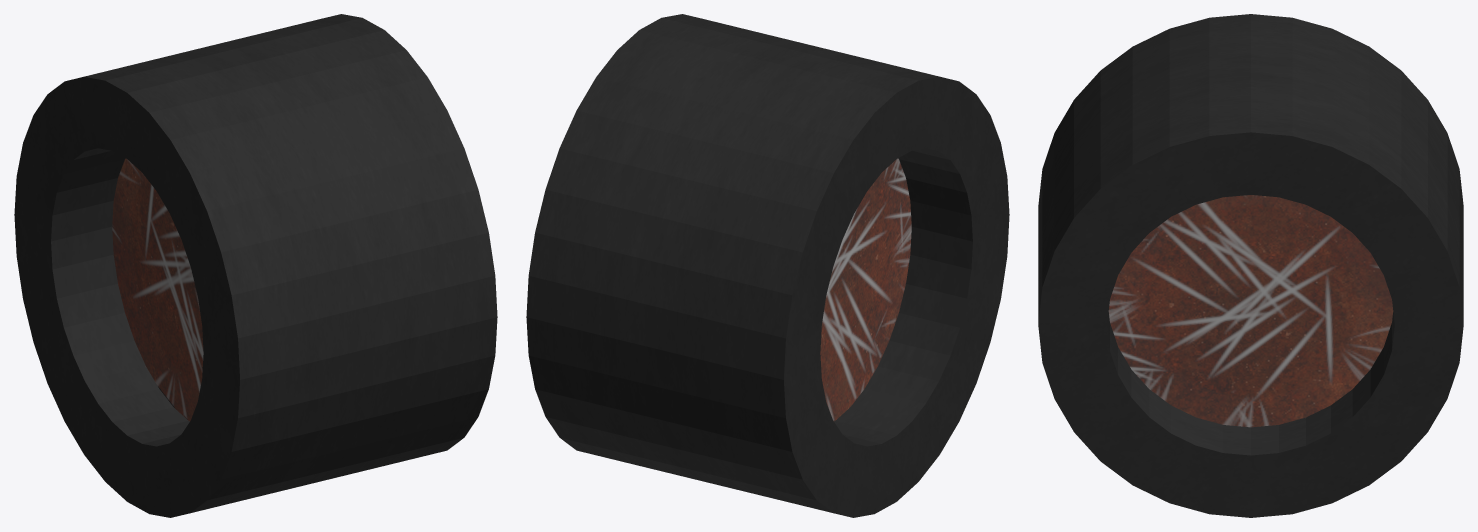
Rendered from Rueda_Monster.glb.
3 renders of one model, left to right at view 1: azimuth 30°, elevation 25°; view 2: azimuth 150°, elevation 25°; view 3: azimuth 270°, elevation 25°, orthographic. The views are drawn at different scales.
Parts seen in each view (by area): view 1: Cylinder; view 2: Cylinder; view 3: Cylinder.
Part boxes in pixels (x1=…): Cylinder: x1=14, y1=14, x2=497, y2=517; Cylinder: x1=526, y1=14, x2=1009, y2=517; Cylinder: x1=1038, y1=14, x2=1463, y2=517.
Bounding box in the file's own units: 1.86 × 2.82 × 2.82.
1 material, 1 textured.
